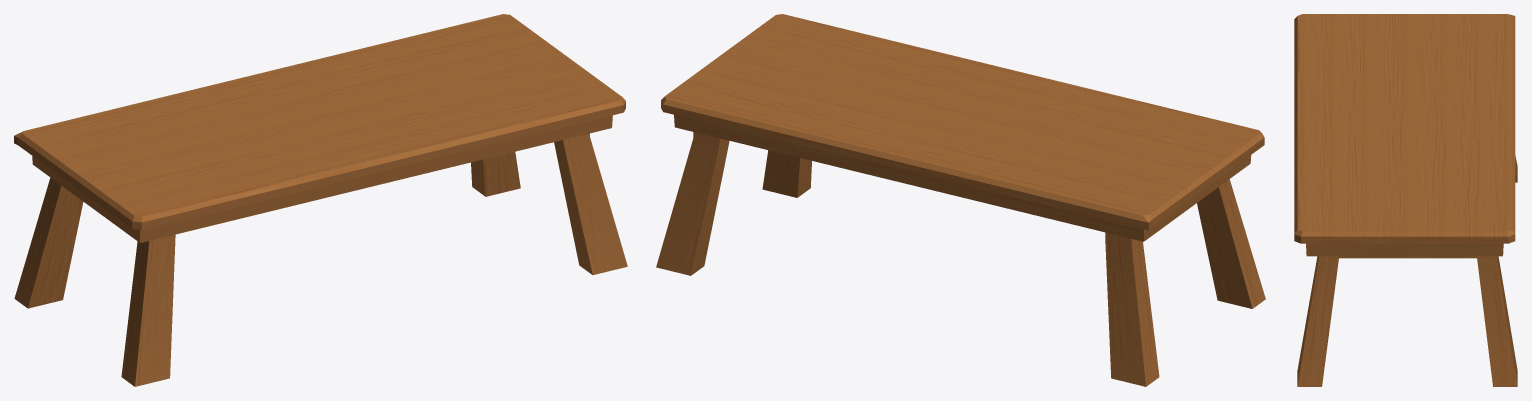
File: Bench_G.FBX
The picture shows the model from 3 angles, left to right: view 1: azimuth 30°, elevation 25°; view 2: azimuth 150°, elevation 25°; view 3: azimuth 270°, elevation 25°; orthographic projection. The views are drawn at different scales.
Visible parts, largest first — view 1: Bench; view 2: Bench; view 3: Bench.
Part boxes in pixels (box(x1,y1,x2,y2)): Bench: box(14, 14, 627, 386); Bench: box(656, 14, 1265, 386); Bench: box(1294, 14, 1517, 386).
Size of the model in its own units: 281 by 91.5 by 120.
